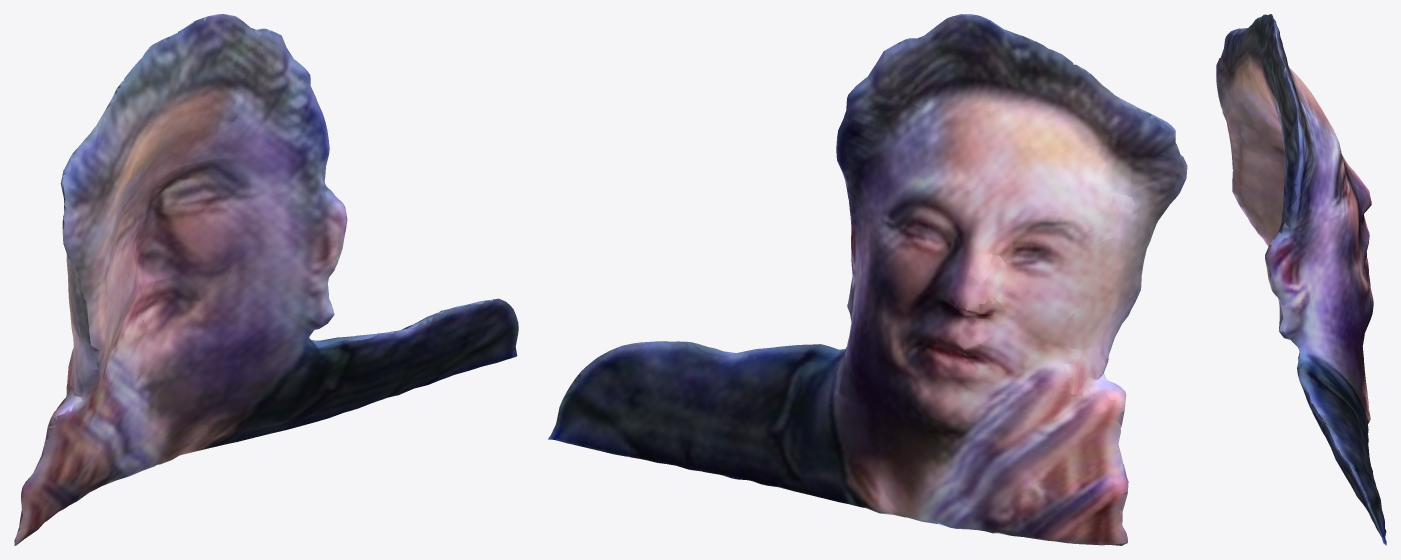
3 renders of one model, left to right at view 1: azimuth 30°, elevation 25°; view 2: azimuth 150°, elevation 25°; view 3: azimuth 270°, elevation 25°, orthographic. The views are drawn at different scales.
Parts seen in each view (by area): view 1: world; view 2: world; view 3: world.
Boxes of the visible parts, x1,y1,x2,y2 form: world: (14, 14, 518, 545); world: (548, 14, 1187, 545); world: (1216, 14, 1386, 545).
Size of the model in its own units: 0.8187 by 0.6969 by 0.277.
1 material, 1 textured.
